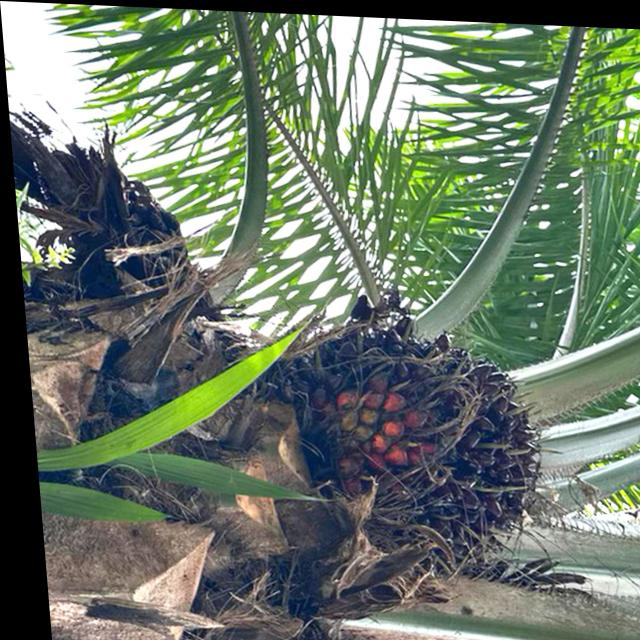ripe: (270, 304, 555, 568)
